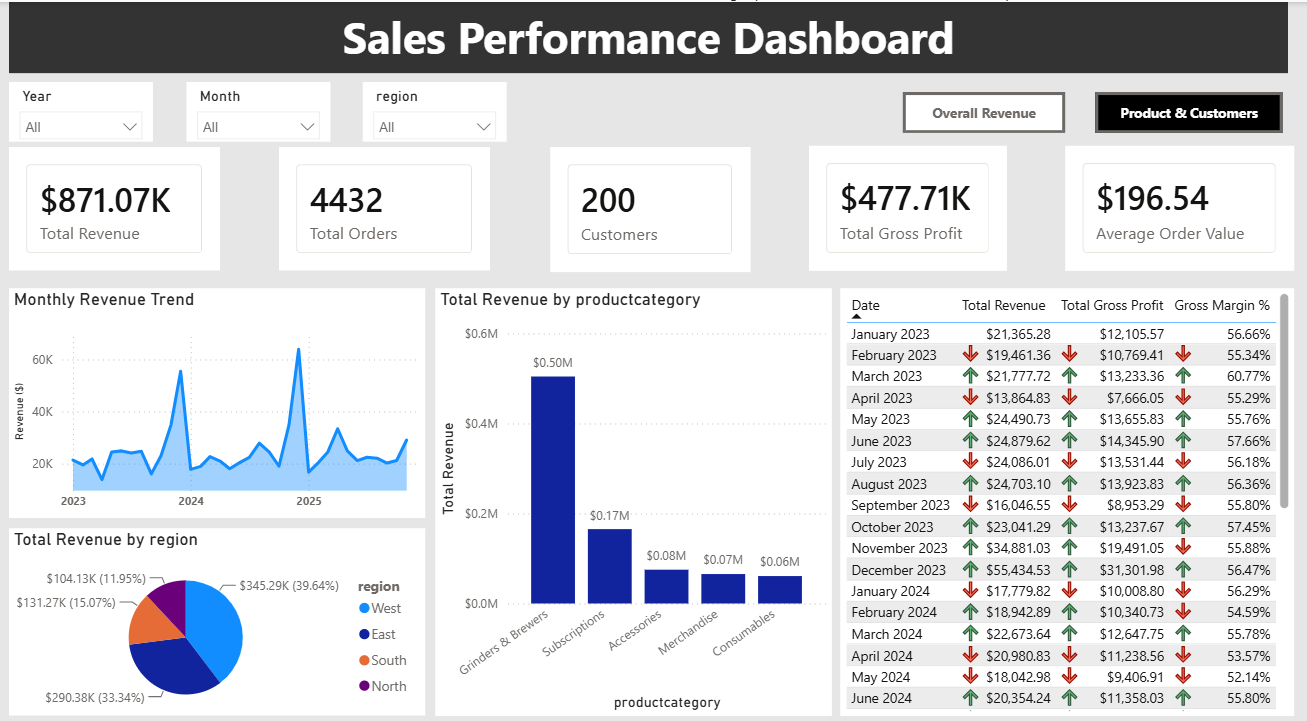

The dashboard page shown, as its layout file describes it:
{"tool":"powerbi","page":{"name":"Overall Revenue","canvas":[1280,720],"ordinal":0},"visuals":[{"type":"textbox","box":[9.8,0,1251,69.7],"z":0},{"type":"cardVisual","fields":{"Data":["vw_full_orders.Total Revenue"]},"box":[9.8,141.8,206.7,121.1],"z":1000},{"type":"cardVisual","fields":{"Data":["vw_full_orders.Total Orders"]},"box":[274.2,141.8,206.7,121.1],"z":2000},{"type":"cardVisual","fields":{"Data":["Count(vw_full_orders.customerid)"]},"box":[538.7,141.8,195.7,122.3],"z":3000},{"type":"cardVisual","fields":{"Data":["vw_full_orders.Total Gross Profit"]},"box":[792.1,140.6,193.2,122.3],"z":4000},{"type":"cardVisual","fields":{"Data":["vw_full_orders.Average Order Value"]},"box":[1043.1,140.6,223.8,122.3],"z":5000},{"type":"areaChart","title":"Monthly Revenue Trend","fields":{"Category":["Calendar.Year-Month"],"Y":["Sum(vw_full_orders.revenue)"]},"box":[9.8,280,407.2,225],"z":7000},{"type":"columnChart","fields":{"Category":["vw_full_orders.productcategory"],"Y":["vw_full_orders.Total Revenue"]},"box":[426.8,280,387.6,418.2],"z":8000},{"type":"pieChart","fields":{"Category":["vw_full_orders.region"],"Y":["vw_full_orders.Total Revenue"]},"box":[9.8,514.8,407.2,183.4],"z":9000},{"type":"slicer","fields":{"Values":["Calendar.Year"]},"box":[9.8,78.3,140.6,58.7],"z":10000},{"type":"slicer","fields":{"Values":["Calendar.Month"]},"box":[182.8,78.3,140.6,58.7],"z":11000},{"type":"slicer","fields":{"Values":["vw_full_orders.region"]},"box":[355.8,78.3,140.6,58.7],"z":12000},{"type":"tableEx","fields":{"Values":["Calendar.Year-Month","vw_full_orders.Total Revenue","vw_full_orders.Total Gross Profit","vw_full_orders.Gross Margin %"]},"box":[823,280,443.9,418.2],"z":13000},{"type":"actionButton","title":"Overall Revenue","box":[884.1,88,159,40.4],"z":14000},{"type":"actionButton","title":"Product & Customers","box":[1072.4,88,183.4,40.4],"z":15000}]}

Visuals, with their boxes in screenshot pixels (x1, y1, x2, y2), scaled from the page's 1280x720 canvas onto the 1307x721 screenshot:
textbox: <box>10,0,1287,70</box>
cardVisual - vw_full_orders.Total Revenue: <box>10,142,221,263</box>
cardVisual - vw_full_orders.Total Orders: <box>280,142,491,263</box>
cardVisual - Count(vw_full_orders.customerid): <box>550,142,750,264</box>
cardVisual - vw_full_orders.Total Gross Profit: <box>809,141,1006,263</box>
cardVisual - vw_full_orders.Average Order Value: <box>1065,141,1294,263</box>
"Monthly Revenue Trend" areaChart: <box>10,280,426,506</box>
columnChart - vw_full_orders.productcategory x vw_full_orders.Total Revenue: <box>436,280,832,699</box>
pieChart - vw_full_orders.region x vw_full_orders.Total Revenue: <box>10,516,426,699</box>
slicer - Calendar.Year: <box>10,78,154,137</box>
slicer - Calendar.Month: <box>187,78,330,137</box>
slicer - vw_full_orders.region: <box>363,78,507,137</box>
tableEx - Calendar.Year-Month x vw_full_orders.Total Revenue: <box>840,280,1294,699</box>
"Overall Revenue" actionButton: <box>903,88,1065,129</box>
"Product & Customers" actionButton: <box>1095,88,1282,129</box>
